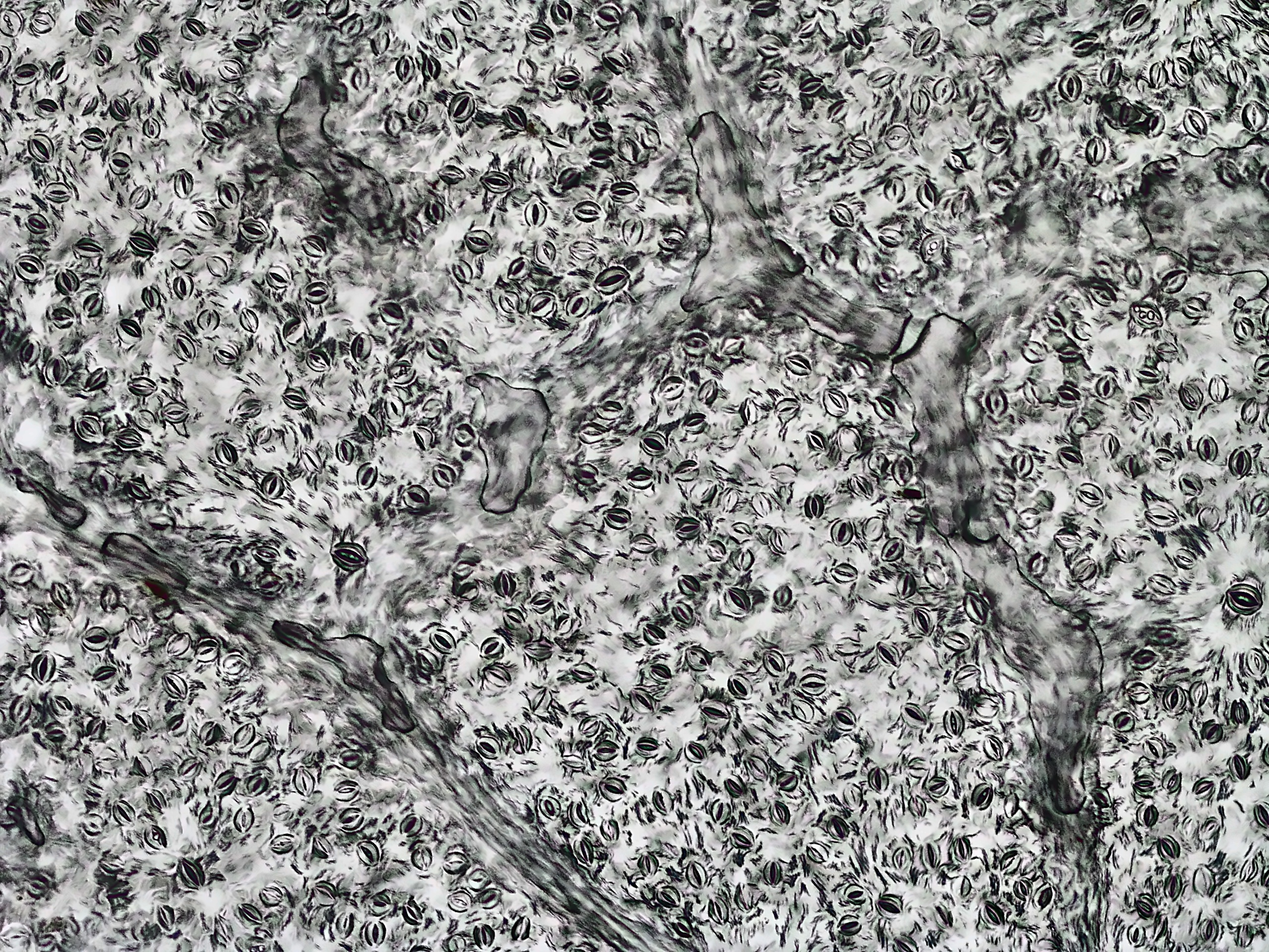stomata: (1221, 582, 1263, 615), (328, 541, 370, 571), (751, 64, 787, 99), (981, 387, 1016, 419), (1119, 647, 1165, 671), (593, 266, 630, 295), (1131, 298, 1164, 330), (30, 648, 57, 686), (821, 388, 852, 421), (176, 856, 205, 891), (985, 477, 1020, 506), (1176, 376, 1205, 411), (72, 415, 108, 443), (1009, 442, 1034, 481), (964, 590, 990, 627), (911, 25, 940, 58), (41, 353, 69, 387), (976, 899, 1007, 929), (721, 586, 753, 615), (1212, 9, 1241, 41), (678, 330, 711, 358), (908, 604, 936, 637), (1053, 442, 1086, 470), (1182, 107, 1210, 140), (1226, 445, 1254, 478), (637, 430, 671, 457), (599, 506, 633, 533), (890, 453, 918, 485), (941, 145, 969, 177), (872, 394, 901, 424), (683, 644, 713, 673), (13, 255, 45, 282), (25, 606, 51, 639), (299, 234, 333, 259), (1084, 133, 1109, 167), (258, 470, 287, 499), (101, 883, 136, 907), (400, 485, 431, 512), (354, 459, 380, 491), (980, 731, 1006, 763), (251, 571, 285, 595), (211, 439, 239, 468), (388, 359, 417, 387), (27, 134, 55, 163), (397, 215, 426, 243), (448, 92, 475, 122), (987, 175, 1017, 202), (950, 665, 981, 691), (919, 233, 945, 264), (801, 71, 824, 106), (736, 881, 759, 916), (1178, 296, 1210, 321), (17, 336, 41, 369), (624, 465, 657, 489), (752, 34, 785, 58), (964, 2, 997, 26), (900, 699, 928, 727), (165, 629, 192, 658), (827, 201, 856, 228), (929, 900, 956, 929), (249, 543, 283, 566), (1057, 69, 1080, 103), (1144, 504, 1178, 527), (527, 292, 557, 318), (875, 638, 901, 668), (125, 615, 150, 646), (1125, 452, 1150, 483), (337, 748, 372, 770), (697, 700, 730, 723), (1241, 99, 1264, 132), (78, 812, 105, 840), (877, 889, 905, 916), (80, 776, 107, 804), (881, 174, 907, 203), (882, 124, 911, 150), (1075, 480, 1104, 506), (828, 706, 858, 731), (232, 396, 266, 418), (81, 625, 112, 649), (1099, 57, 1123, 88), (838, 881, 869, 905), (803, 490, 826, 522), (770, 462, 802, 485), (479, 172, 514, 193), (1146, 574, 1181, 595), (162, 672, 189, 699), (298, 447, 324, 475), (630, 687, 656, 715), (1126, 397, 1154, 423), (1154, 835, 1182, 861), (559, 751, 587, 777), (917, 179, 939, 212), (656, 375, 685, 400), (128, 232, 158, 256), (830, 517, 854, 547), (951, 834, 975, 864), (596, 396, 630, 417), (492, 568, 515, 599), (577, 422, 609, 444), (670, 516, 702, 538), (970, 779, 992, 811), (221, 653, 248, 679), (823, 813, 850, 839), (212, 92, 247, 112), (145, 516, 180, 536), (786, 698, 814, 723), (743, 754, 771, 779), (847, 474, 875, 499), (378, 302, 407, 326), (1162, 685, 1186, 714), (125, 375, 158, 396), (1245, 648, 1266, 681), (894, 569, 917, 599), (1022, 378, 1045, 408), (1228, 696, 1251, 726), (159, 401, 190, 423), (510, 722, 532, 753), (1133, 364, 1164, 386), (1193, 865, 1215, 896), (889, 844, 911, 875), (761, 650, 787, 676), (502, 105, 527, 132), (430, 628, 457, 653), (881, 536, 906, 563), (303, 349, 331, 373), (594, 5, 622, 29), (112, 799, 136, 827), (727, 676, 755, 700), (573, 200, 602, 223), (9, 694, 32, 723), (599, 778, 628, 801), (707, 896, 730, 925), (571, 462, 601, 484), (669, 460, 702, 480), (1172, 55, 1194, 85), (834, 914, 864, 936), (782, 354, 813, 375), (797, 676, 828, 697), (54, 269, 79, 295), (845, 25, 870, 51), (1177, 473, 1203, 498), (995, 847, 1020, 873), (91, 468, 115, 495), (640, 623, 667, 647), (6, 563, 34, 586), (84, 366, 112, 389), (1136, 801, 1159, 829), (828, 563, 860, 583), (384, 392, 406, 421), (11, 63, 40, 85), (553, 67, 582, 89), (573, 837, 595, 866), (98, 584, 120, 613), (678, 411, 707, 433), (866, 66, 896, 87), (1168, 552, 1201, 571), (425, 337, 450, 362), (136, 34, 161, 59), (506, 256, 531, 281), (355, 841, 380, 866), (412, 647, 437, 672), (676, 572, 701, 597), (1219, 158, 1244, 183), (1109, 536, 1134, 561), (1200, 507, 1225, 532), (92, 661, 118, 685), (195, 639, 221, 663), (282, 318, 306, 344), (433, 463, 457, 489), (74, 10, 98, 36), (338, 807, 364, 831), (312, 882, 338, 906), (501, 607, 527, 631), (411, 426, 435, 452), (1021, 339, 1047, 363), (1160, 270, 1186, 294), (1232, 316, 1256, 342), (1112, 707, 1136, 733), (524, 201, 547, 228), (602, 52, 629, 75), (233, 722, 256, 749), (475, 736, 502, 759), (24, 875, 51, 898), (1127, 682, 1154, 705), (421, 398, 448, 421), (74, 238, 105, 258), (876, 227, 907, 247), (173, 334, 195, 362), (180, 67, 202, 95), (201, 121, 229, 143), (165, 713, 193, 735), (1195, 435, 1217, 463), (1233, 920, 1255, 948), (921, 839, 939, 873), (465, 231, 494, 252), (657, 230, 686, 251), (831, 635, 860, 656), (238, 221, 270, 240), (198, 720, 222, 745), (114, 428, 144, 448), (453, 1, 477, 26), (609, 182, 639, 202), (557, 166, 582, 190), (687, 860, 707, 890), (719, 334, 743, 359), (683, 737, 707, 762), (1226, 60, 1246, 90), (1192, 36, 1212, 66), (1249, 488, 1269, 518), (1151, 343, 1181, 363), (1036, 883, 1056, 913), (1130, 894, 1155, 918), (709, 798, 732, 824), (369, 30, 391, 57), (442, 852, 469, 874), (846, 137, 873, 159), (1041, 311, 1068, 333), (1052, 529, 1085, 547), (1160, 873, 1182, 900), (98, 856, 131, 874), (568, 241, 599, 260), (334, 439, 355, 467), (349, 333, 370, 361), (218, 181, 239, 209), (438, 164, 466, 185), (622, 218, 643, 246), (332, 780, 360, 801), (483, 665, 511, 686), (652, 788, 673, 816), (943, 710, 964, 738), (1124, 260, 1145, 288), (173, 169, 193, 198), (933, 76, 953, 105), (1055, 384, 1084, 404), (1102, 432, 1122, 461), (1230, 751, 1250, 780), (354, 414, 378, 438), (266, 265, 290, 289), (399, 813, 423, 837), (196, 802, 220, 826), (435, 28, 458, 53), (214, 770, 237, 795), (594, 739, 619, 762), (705, 538, 728, 563), (865, 765, 888, 790), (1153, 448, 1176, 473), (304, 282, 330, 304), (47, 306, 73, 328), (80, 128, 106, 150), (293, 769, 315, 795), (177, 757, 203, 779), (237, 903, 263, 925), (364, 921, 386, 947), (696, 379, 718, 405), (1094, 374, 1116, 400), (42, 183, 72, 202), (629, 535, 659, 554), (569, 801, 590, 828), (872, 265, 899, 286), (1070, 36, 1097, 57), (1189, 777, 1216, 798), (569, 662, 597, 682), (523, 639, 551, 659), (1126, 3, 1146, 31), (340, 13, 363, 37), (565, 295, 589, 318), (247, 773, 270, 797), (451, 558, 475, 581), (733, 546, 756, 570), (1070, 558, 1094, 581), (232, 34, 261, 53), (922, 777, 951, 796), (48, 583, 70, 608), (128, 710, 153, 732), (239, 309, 261, 334), (30, 12, 55, 34), (181, 19, 206, 41), (145, 789, 167, 814), (473, 924, 495, 949), (637, 125, 662, 147), (24, 213, 50, 234), (535, 240, 556, 266), (233, 807, 254, 833), (133, 409, 159, 430), (775, 400, 801, 421), (804, 431, 830, 452), (646, 661, 672, 682), (1145, 110, 1166, 136), (526, 24, 553, 44), (1241, 399, 1261, 426), (942, 631, 970, 650), (1239, 855, 1258, 883), (50, 694, 73, 717), (76, 93, 99, 116), (410, 847, 433, 870), (1142, 738, 1165, 761), (214, 344, 238, 366), (197, 308, 221, 330), (551, 0, 573, 24), (577, 715, 601, 737), (768, 528, 790, 552), (841, 782, 863, 806), (3, 925, 27, 947), (284, 388, 309, 409), (478, 888, 503, 909), (820, 244, 841, 269), (1149, 59, 1167, 88), (218, 60, 244, 80), (425, 199, 445, 225), (479, 637, 505, 657), (1117, 102, 1137, 128), (1199, 918, 1219, 944), (517, 57, 536, 84), (1001, 792, 1020, 819), (452, 423, 475, 445), (170, 247, 193, 269), (91, 43, 113, 66), (498, 291, 520, 314), (144, 826, 167, 848), (539, 796, 561, 819), (806, 841, 829, 863), (529, 590, 552, 612), (672, 602, 694, 625), (1092, 282, 1114, 305), (1197, 818, 1219, 841), (117, 317, 141, 338), (173, 275, 194, 299), (82, 293, 103, 317), (129, 184, 150, 208), (109, 96, 130, 120), (396, 55, 414, 83), (452, 260, 473, 284), (402, 902, 423, 926), (599, 818, 620, 842), (772, 583, 793, 607), (191, 211, 216, 231), (50, 60, 70, 85), (447, 892, 472, 912), (1027, 552, 1047, 577), (1162, 769, 1182, 794), (385, 111, 404, 137), (763, 861, 782, 887), (619, 138, 637, 165), (127, 478, 149, 500), (905, 795, 927, 817), (1038, 147, 1060, 169), (1201, 722, 1223, 744), (206, 256, 229, 277), (109, 153, 132, 174), (588, 82, 611, 103), (155, 905, 176, 928), (775, 770, 798, 791), (368, 894, 392, 914), (511, 916, 531, 940), (638, 853, 658, 877), (656, 888, 680, 908), (771, 801, 791, 825), (718, 487, 738, 511), (979, 62, 1003, 82), (1190, 679, 1207, 707), (422, 55, 441, 80), (270, 834, 295, 853), (983, 133, 1009, 151), (1058, 345, 1084, 363), (1015, 28, 1044, 44), (752, 493, 773, 515), (968, 99, 989, 121), (312, 835, 332, 858), (259, 886, 282, 906), (692, 482, 715, 502), (827, 98, 847, 121), (952, 876, 972, 899), (34, 99, 58, 118), (589, 121, 613, 140), (972, 698, 997, 716), (911, 88, 927, 116), (738, 397, 755, 423), (726, 522, 752, 539), (86, 717, 107, 738), (407, 101, 428, 122), (673, 916, 694, 937), (725, 776, 746, 797), (1092, 261, 1113, 282), (730, 829, 753, 848), (752, 1, 781, 16), (351, 67, 369, 91), (1131, 776, 1158, 792), (1253, 801, 1269, 828), (337, 913, 354, 938), (1211, 378, 1228, 403), (1126, 923, 1146, 944), (142, 287, 161, 309), (1025, 101, 1044, 123), (797, 17, 815, 40), (1091, 788, 1111, 808), (143, 117, 161, 139), (1013, 878, 1031, 900), (635, 736, 659, 752), (442, 935, 466, 951), (589, 151, 612, 167), (553, 616, 573, 634), (1018, 510, 1038, 528), (46, 723, 66, 740), (254, 427, 272, 445), (908, 758, 926, 776), (1258, 354, 1269, 378)
